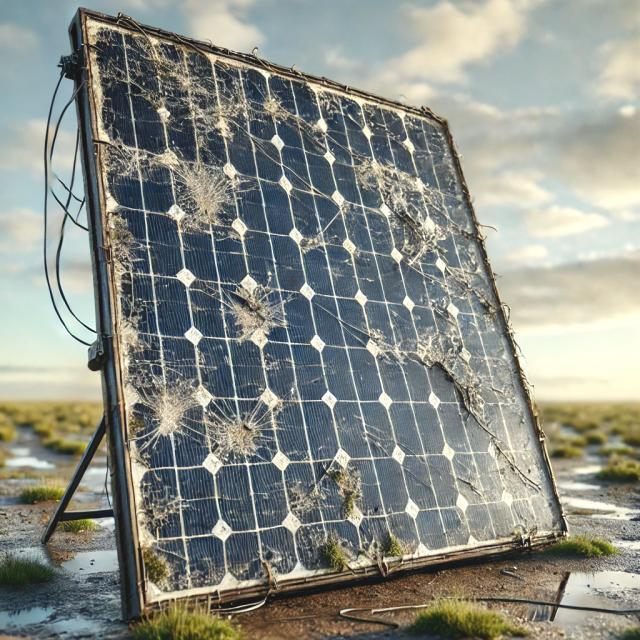Anomaly Solar Panel: (82, 15, 569, 608)
Structural Damage: (356, 155, 452, 271), (142, 61, 248, 143), (158, 152, 249, 240), (391, 325, 491, 401), (208, 275, 294, 346), (202, 406, 276, 469), (143, 376, 199, 449), (254, 89, 292, 131)
